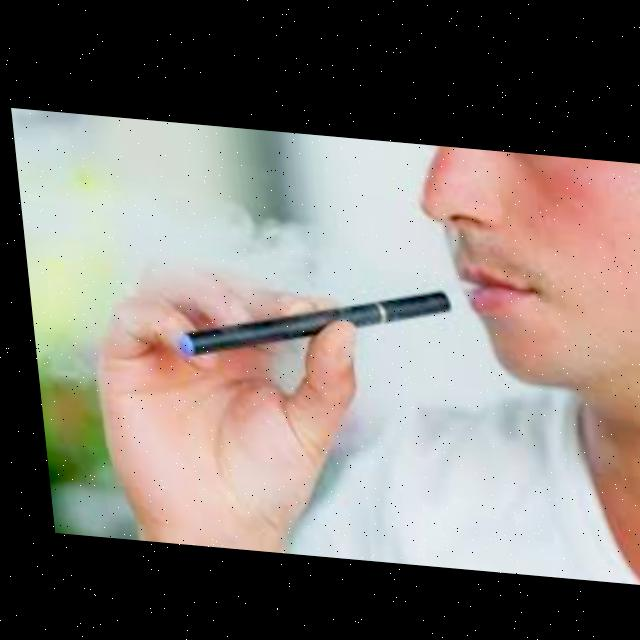vape: (164, 262, 453, 372)
